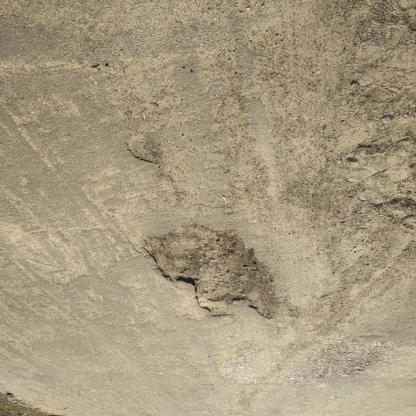pothole: (140, 224, 282, 323), (125, 134, 163, 168)
